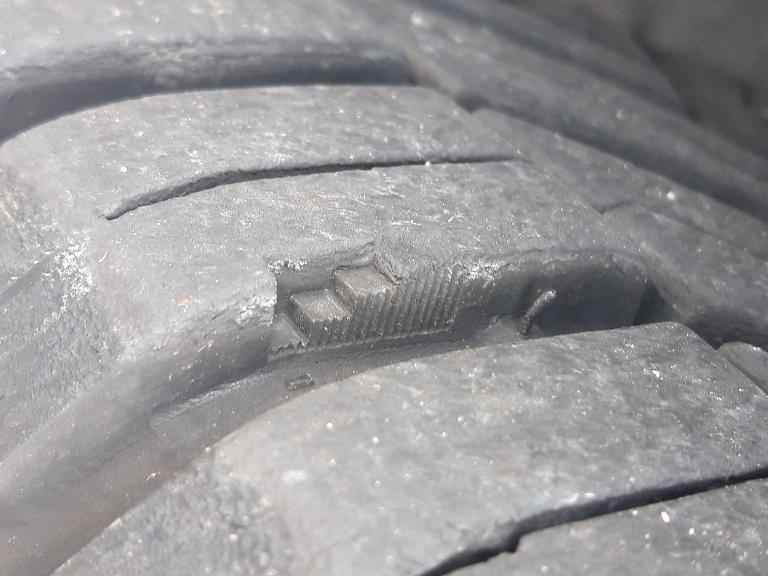temoin:80: (250, 221, 479, 366)
